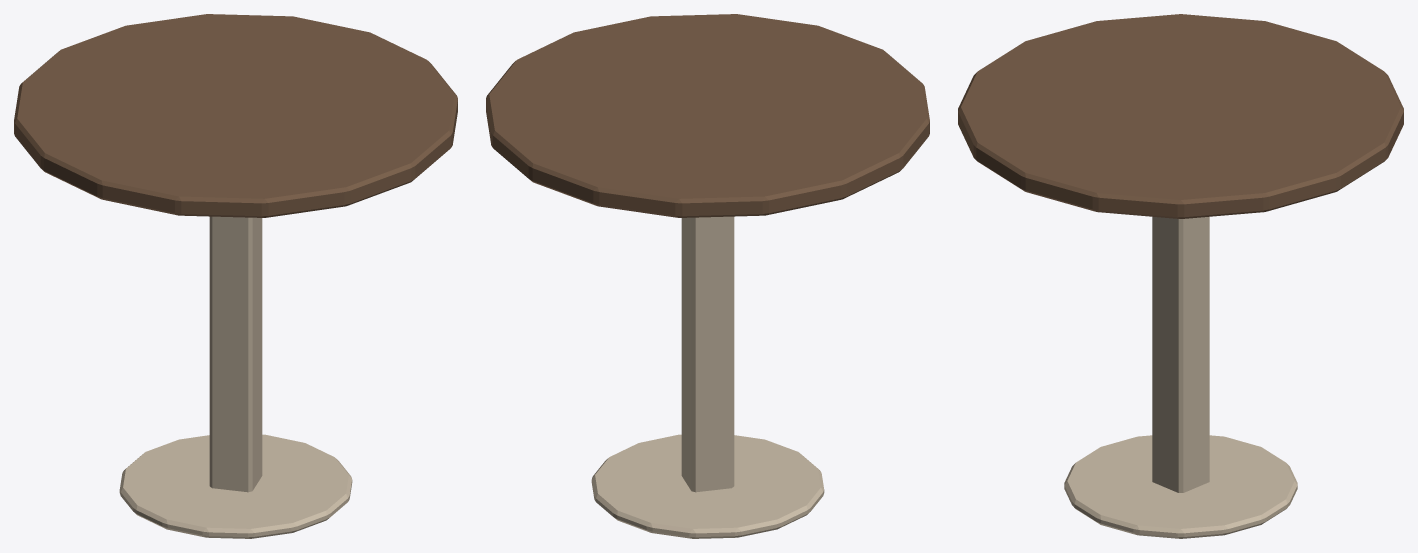
Rendered from table.glb.
The picture shows the model from 3 angles, left to right: view 1: azimuth 30°, elevation 25°; view 2: azimuth 150°, elevation 25°; view 3: azimuth 270°, elevation 25°; orthographic projection.
Visible parts, largest first — view 1: TableTop, TableFoot, TableLeg; view 2: TableTop, TableFoot, TableLeg; view 3: TableTop, TableFoot, TableLeg.
Boxes of the visible parts, x1,y1,x2,y2 form: TableTop: (14,14,457,217); TableFoot: (119,434,352,538); TableLeg: (209,216,262,492); TableTop: (486,14,929,217); TableFoot: (591,434,824,538); TableLeg: (681,216,734,492); TableTop: (958,14,1403,218); TableFoot: (1064,435,1297,538); TableLeg: (1152,216,1209,492).
Size of the model in its own units: 0.997 by 0.9472 by 0.997.
